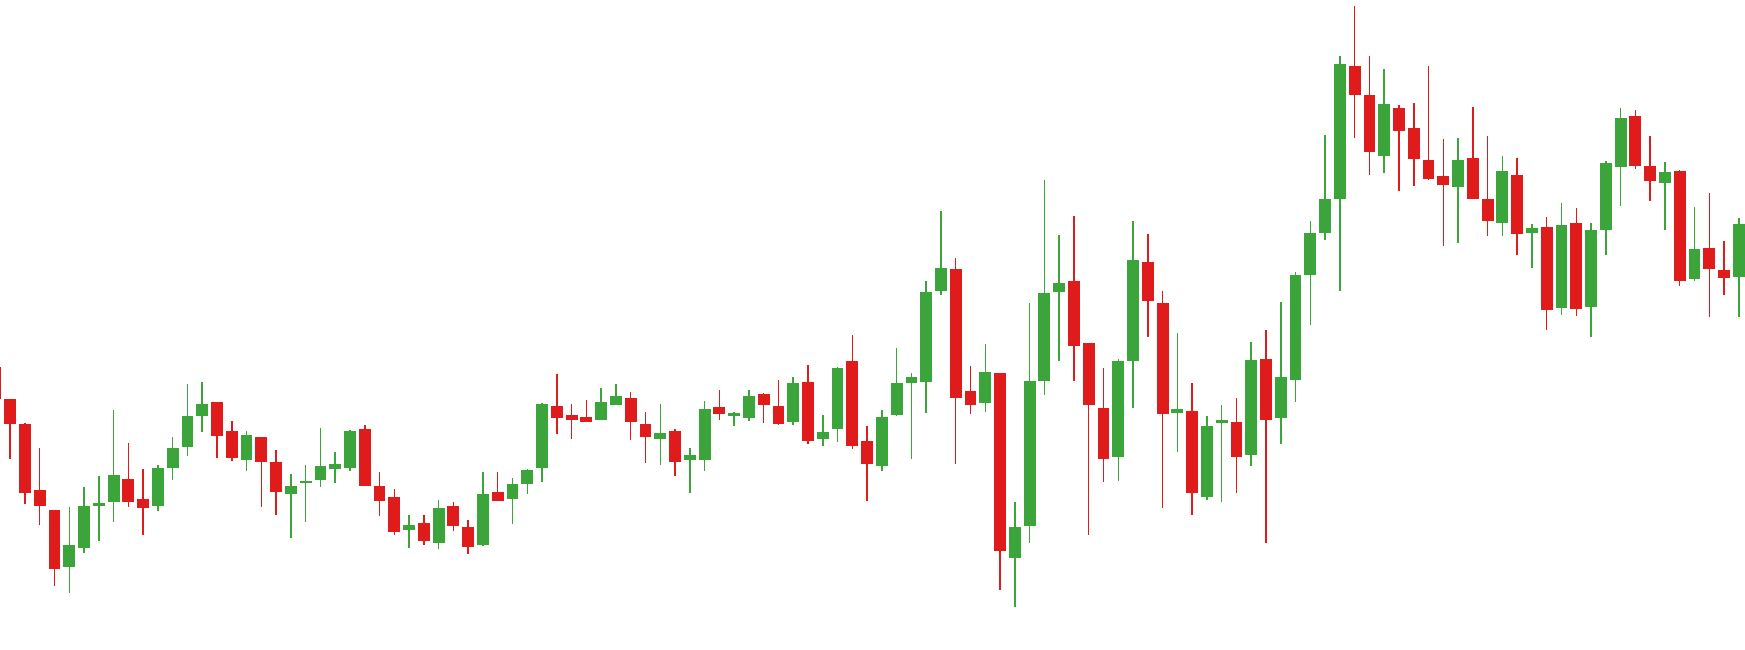buy: (860, 345, 1024, 619), (284, 449, 446, 560)
sell: (1480, 104, 1645, 230)
